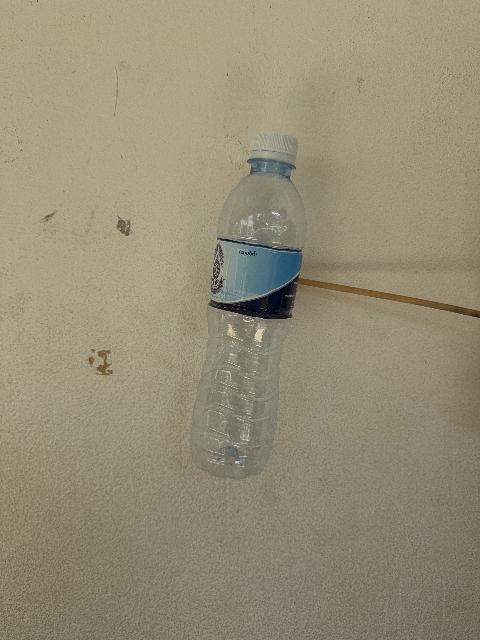bottle: (190, 132, 305, 478)
